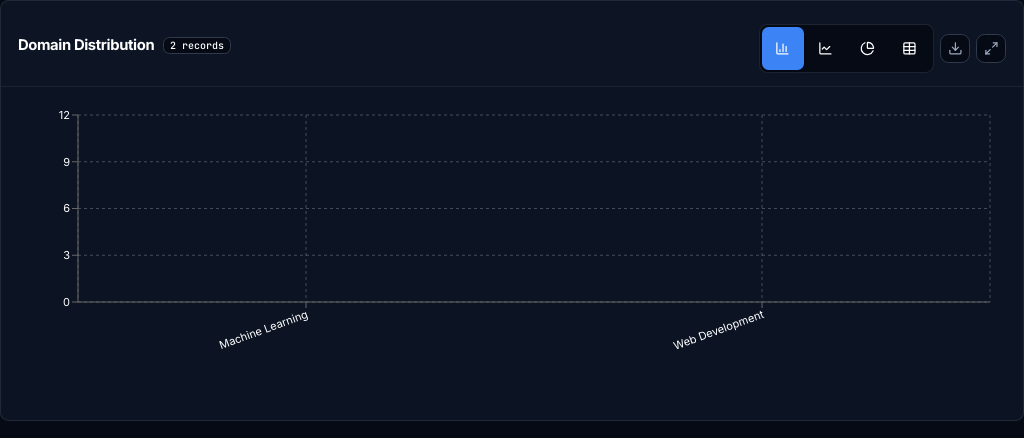
Test: DynamicChartWidget › provides ARIA view switcher states with role="group" and aria-pressed attributes
Expected: the element named "Domain Distribution view modes" is shown, [759,24,934,73]
Expected: the button named "Switch to bar view" is shown, [762,27,804,70]
Note: Switch to table view
Click the button named "Switch to table view".
click(910, 49)  # box [889,27,931,70]
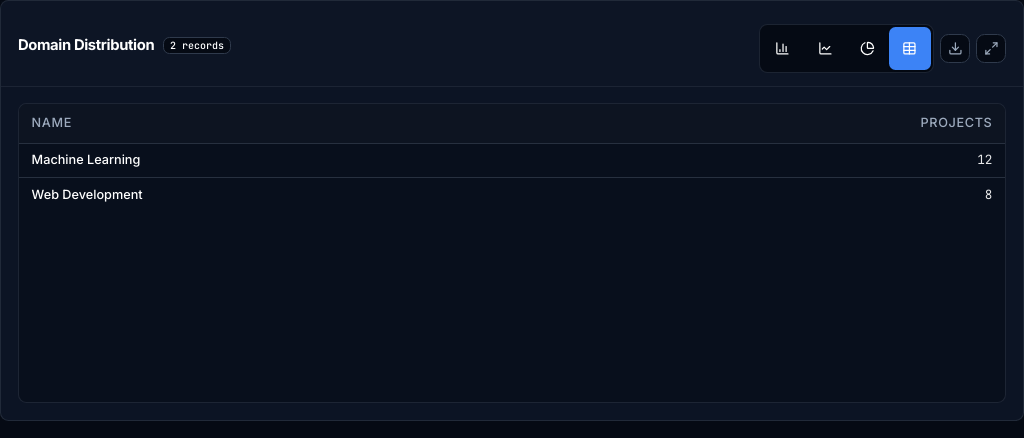
Now the table is shown, box [19,104,1005,212]
Now the table shows "Machine Learning", box [32,152,140,167]
Now the table shows "12", box [977,151,992,168]
